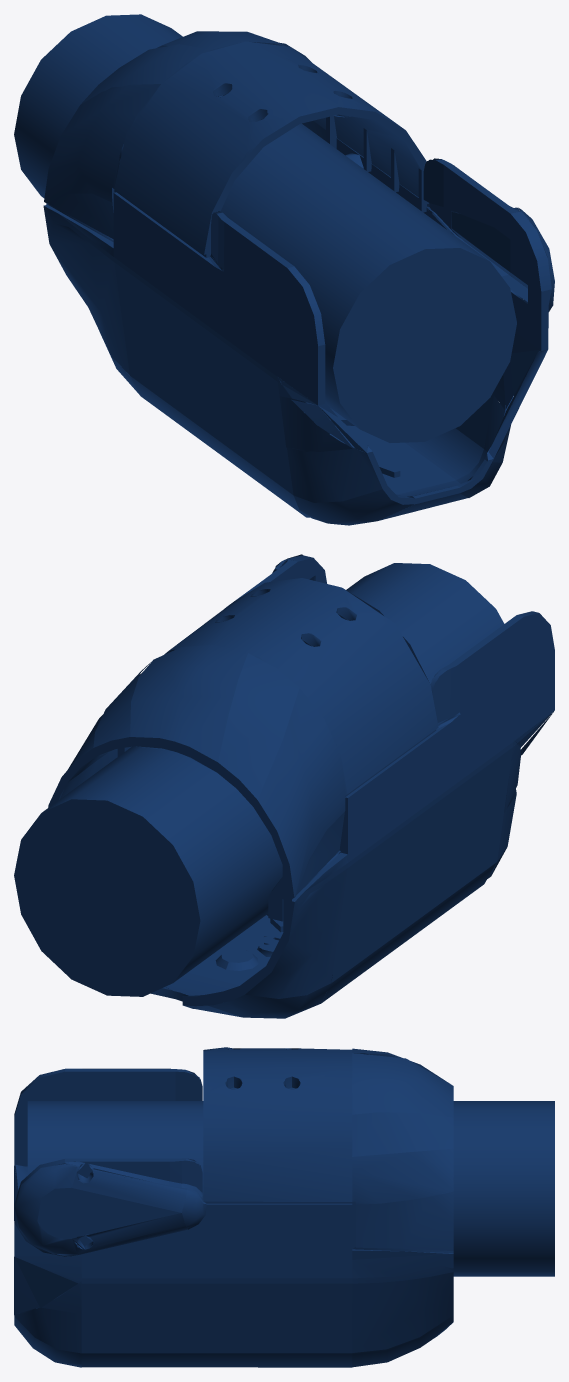
Rendered from icub_l_arm.dae.
3 views of the same model, one above another, from view 1: azimuth 30°, elevation 25°; view 2: azimuth 150°, elevation 25°; view 3: azimuth 270°, elevation 25° (orthographic). The views are drawn at different scales.
Parts seen in each view (by area): view 1: l_upperarm_mesh, l_arm_cyl_mesh; view 2: l_upperarm_mesh, l_arm_cyl_mesh; view 3: l_upperarm_mesh, l_arm_cyl_mesh.
Part boxes in pixels (x1,y1,x2,y2): l_upperarm_mesh: [43, 31, 554, 525]; l_arm_cyl_mesh: [14, 14, 516, 442]; l_upperarm_mesh: [48, 554, 554, 1018]; l_arm_cyl_mesh: [14, 563, 504, 996]; l_upperarm_mesh: [14, 1047, 453, 1367]; l_arm_cyl_mesh: [27, 1101, 554, 1276].
Size of the model in its own units: 0.0716 by 0.0916 by 0.1601.
